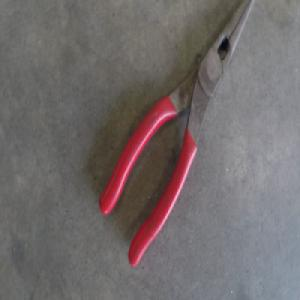Pliers: (98, 1, 263, 270)
